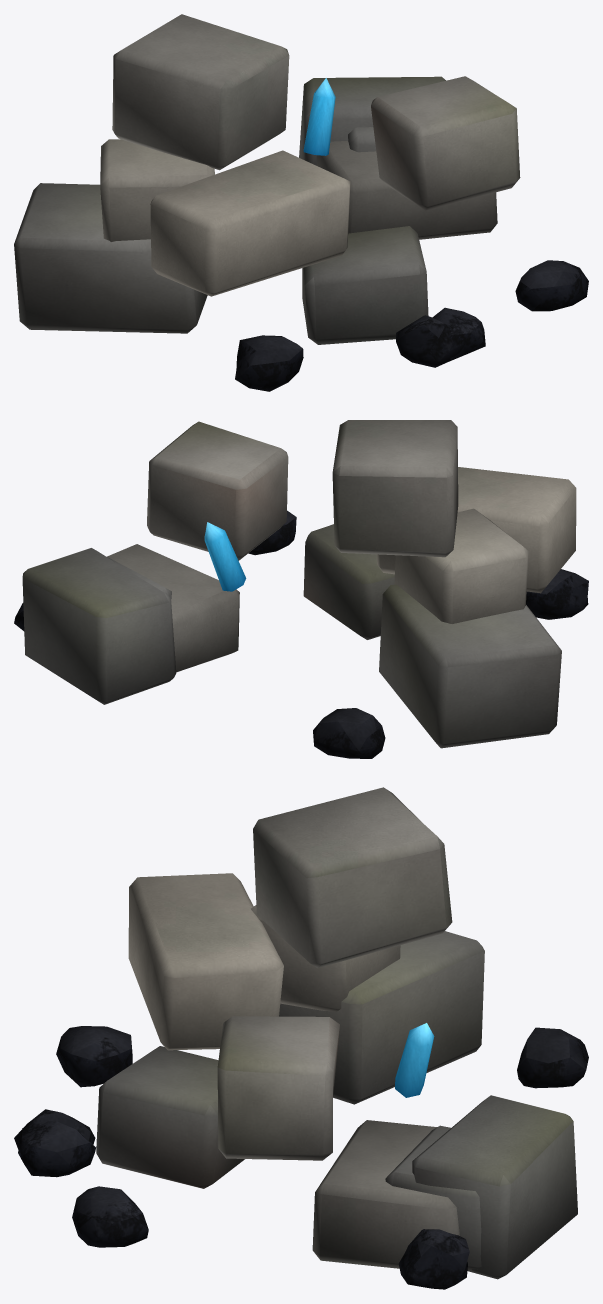
Rendered from mined_block_pile.glb.
3 renders of one model, top to bottom at view 1: azimuth 30°, elevation 25°; view 2: azimuth 150°, elevation 25°; view 3: azimuth 270°, elevation 25°, orthographic. The views are drawn at different scales.
Parts seen in each view (by area): view 1: mined_block_pile; view 2: mined_block_pile; view 3: mined_block_pile.
Boxes of the visible parts, x1,y1,x2,y2 form: mined_block_pile: (14, 14, 588, 391); mined_block_pile: (14, 420, 588, 758); mined_block_pile: (14, 787, 588, 1289).
Bounding box in the file's own units: 3.89 × 1.8 × 3.25.
Materials: 3 (3 with a texture image).
